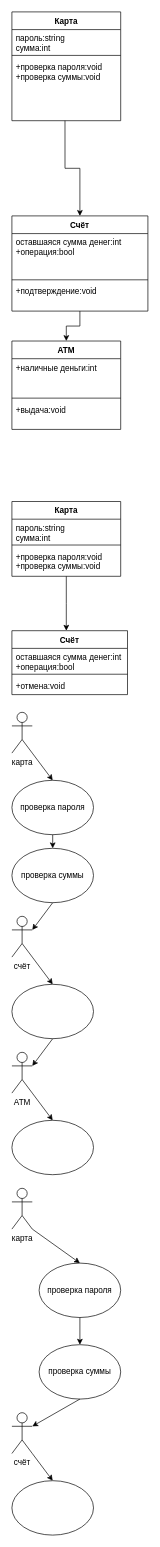
This 160x1547 diagram has some shape labels left out. Here are the shapes that lost their labels. From the top down, the centre of each, then its label:
the point at 52,1011: подтверждение
the point at 52,1147: выдача
the point at 52,1507: отмена
